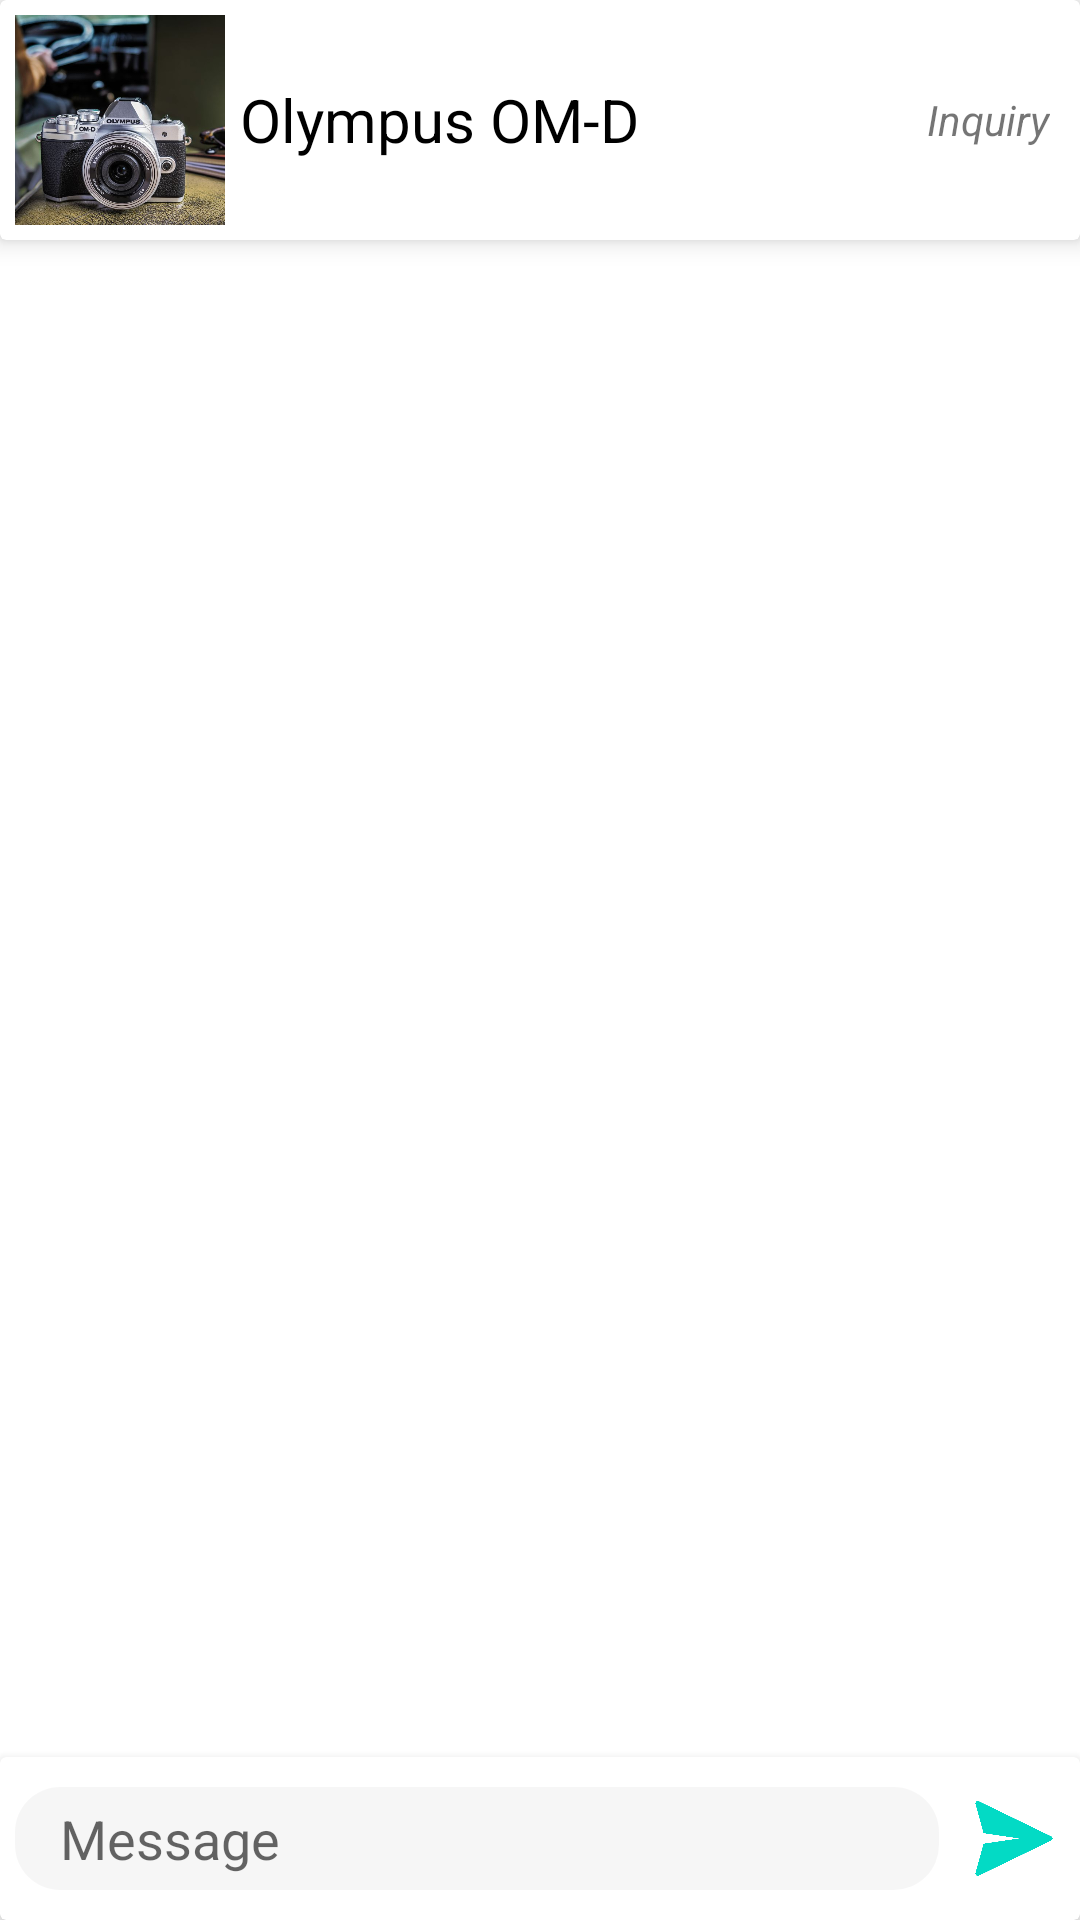

Locate icon controls on the screen. Image size 1080px x 1920px, boxes as (x1, y1, x2, y2).
send: (975, 1801, 1053, 1876)
